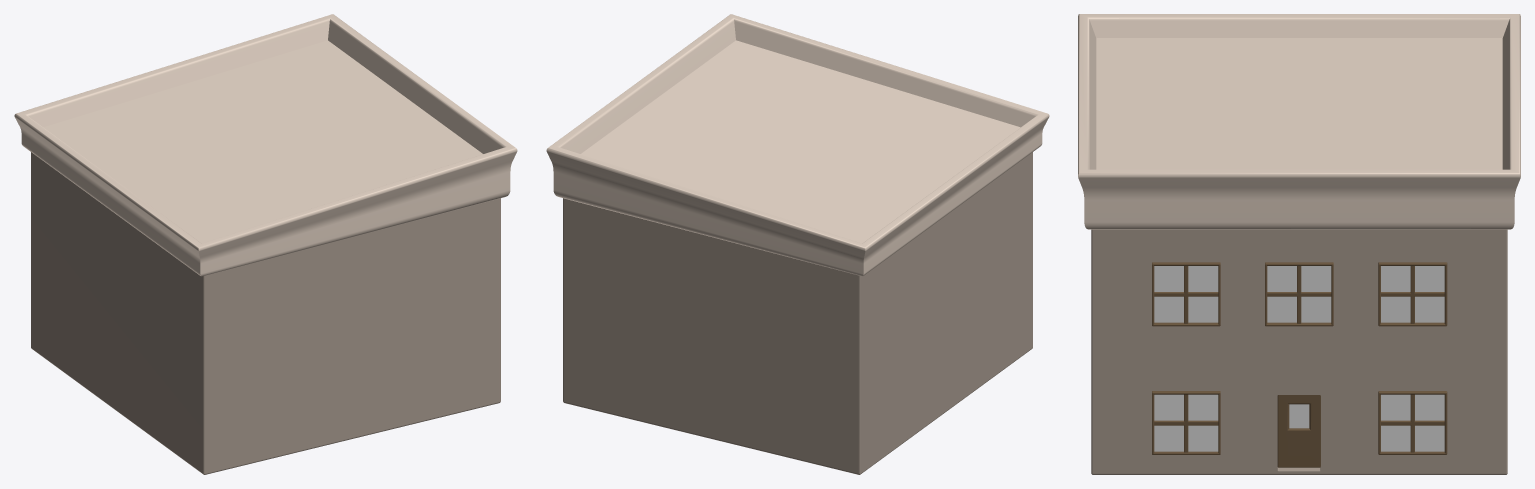
File: ExtraHouse.fbx
The picture shows the model from 3 angles, left to right: view 1: azimuth 30°, elevation 25°; view 2: azimuth 150°, elevation 25°; view 3: azimuth 270°, elevation 25°; orthographic projection. The views are drawn at different scales.
Visible parts, largest first — view 1: polySurface2; view 2: polySurface2; view 3: polySurface2.
Part boxes in pixels (<box>): polySurface2: <box>14,14,517,474</box>; polySurface2: <box>546,14,1049,474</box>; polySurface2: <box>1078,14,1520,474</box>.
Bounding box in the file's own units: 25.1 × 19.29 × 25.1.
